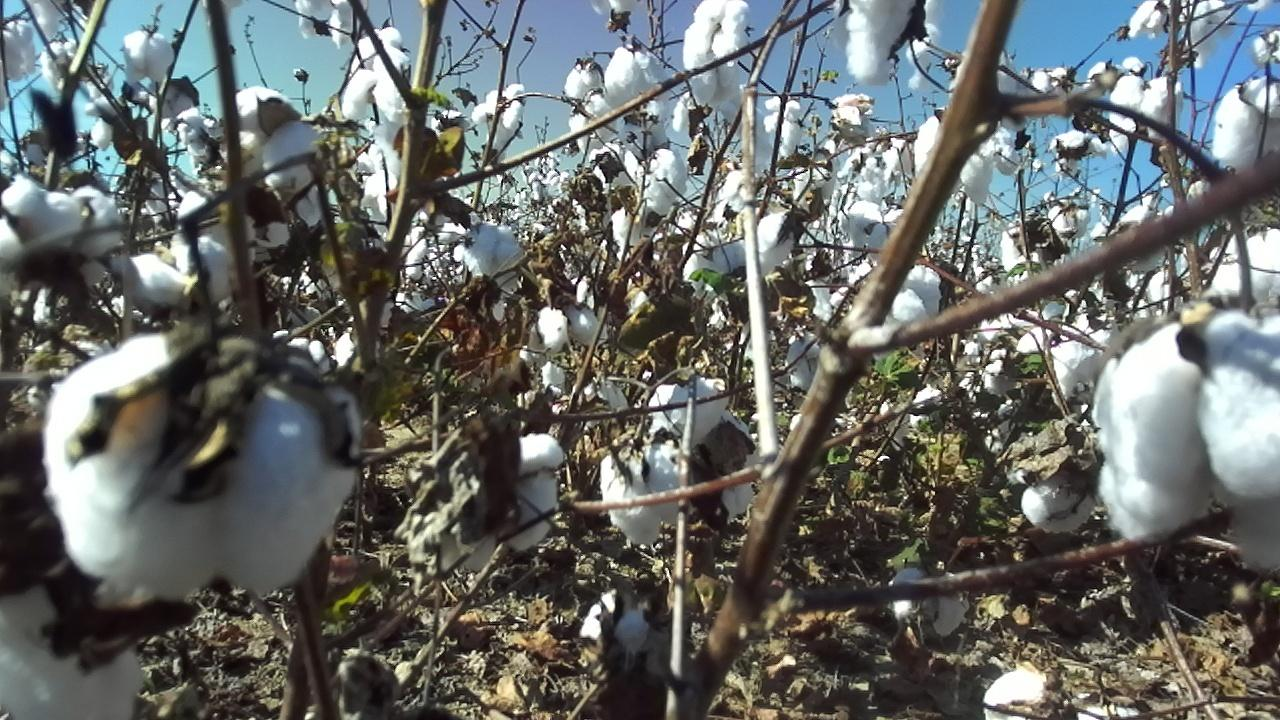cotton_ready: (42, 334, 363, 596), (1091, 312, 1280, 574), (0, 553, 148, 715), (426, 433, 567, 575), (647, 377, 758, 517), (236, 87, 322, 249), (0, 177, 124, 289), (682, 208, 798, 298), (1018, 309, 1120, 400), (601, 443, 691, 544), (124, 237, 236, 316), (683, 0, 750, 121), (833, 0, 925, 86), (1125, 0, 1235, 67), (1204, 226, 1280, 321), (915, 116, 992, 206), (1213, 75, 1280, 177), (354, 116, 405, 240), (403, 204, 480, 280), (1211, 231, 1280, 315), (880, 265, 941, 360), (1108, 74, 1184, 147), (520, 306, 609, 367), (342, 48, 407, 127), (456, 223, 525, 295), (838, 136, 910, 200), (624, 148, 689, 215), (603, 48, 665, 112), (843, 199, 908, 260), (471, 83, 526, 154), (0, 21, 38, 108), (1023, 485, 1090, 534), (120, 32, 174, 89), (297, 0, 362, 46), (1000, 216, 1040, 286), (159, 88, 205, 148), (570, 96, 618, 152), (790, 152, 833, 211), (611, 202, 659, 254), (348, 28, 402, 71), (288, 337, 334, 379), (791, 337, 825, 392), (562, 63, 605, 105), (1048, 199, 1091, 239), (1047, 131, 1107, 159), (990, 127, 1020, 175)
